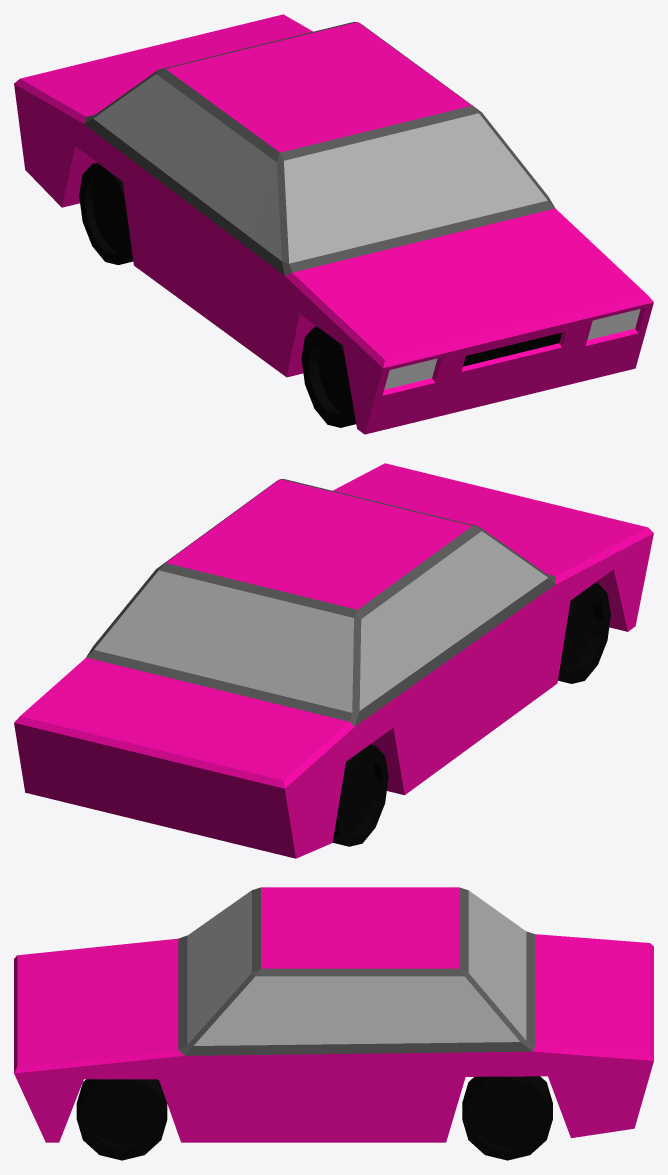
File: Car3.fbx
3 renders of one model, top to bottom at view 1: azimuth 30°, elevation 25°; view 2: azimuth 150°, elevation 25°; view 3: azimuth 270°, elevation 25°, orthographic. The views are drawn at different scales.
Visible parts, largest first — view 1: Car3; view 2: Car3; view 3: Car3.
Boxes of the visible parts, bbox=[...] form: Car3: bbox=[14, 14, 653, 434]; Car3: bbox=[14, 463, 653, 858]; Car3: bbox=[14, 887, 653, 1160].
Size of the model in its own units: 113 by 81.6 by 266.
